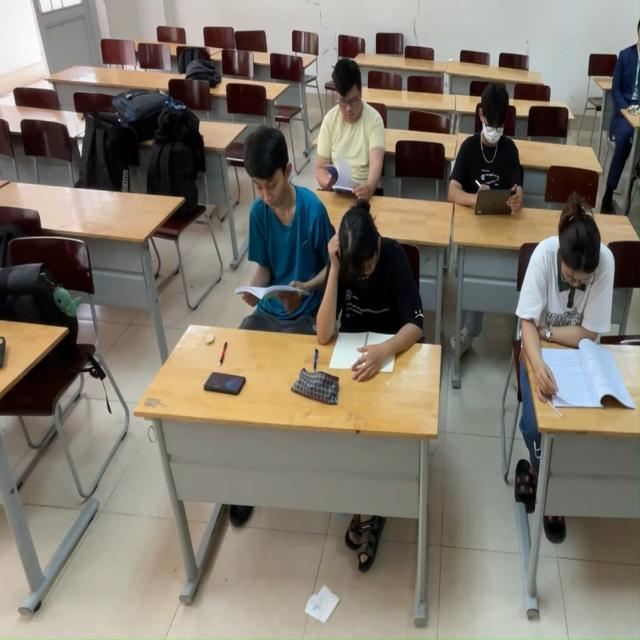read: (515, 202, 640, 421), (222, 124, 328, 338), (314, 201, 425, 392), (445, 81, 536, 223), (314, 58, 391, 204)
